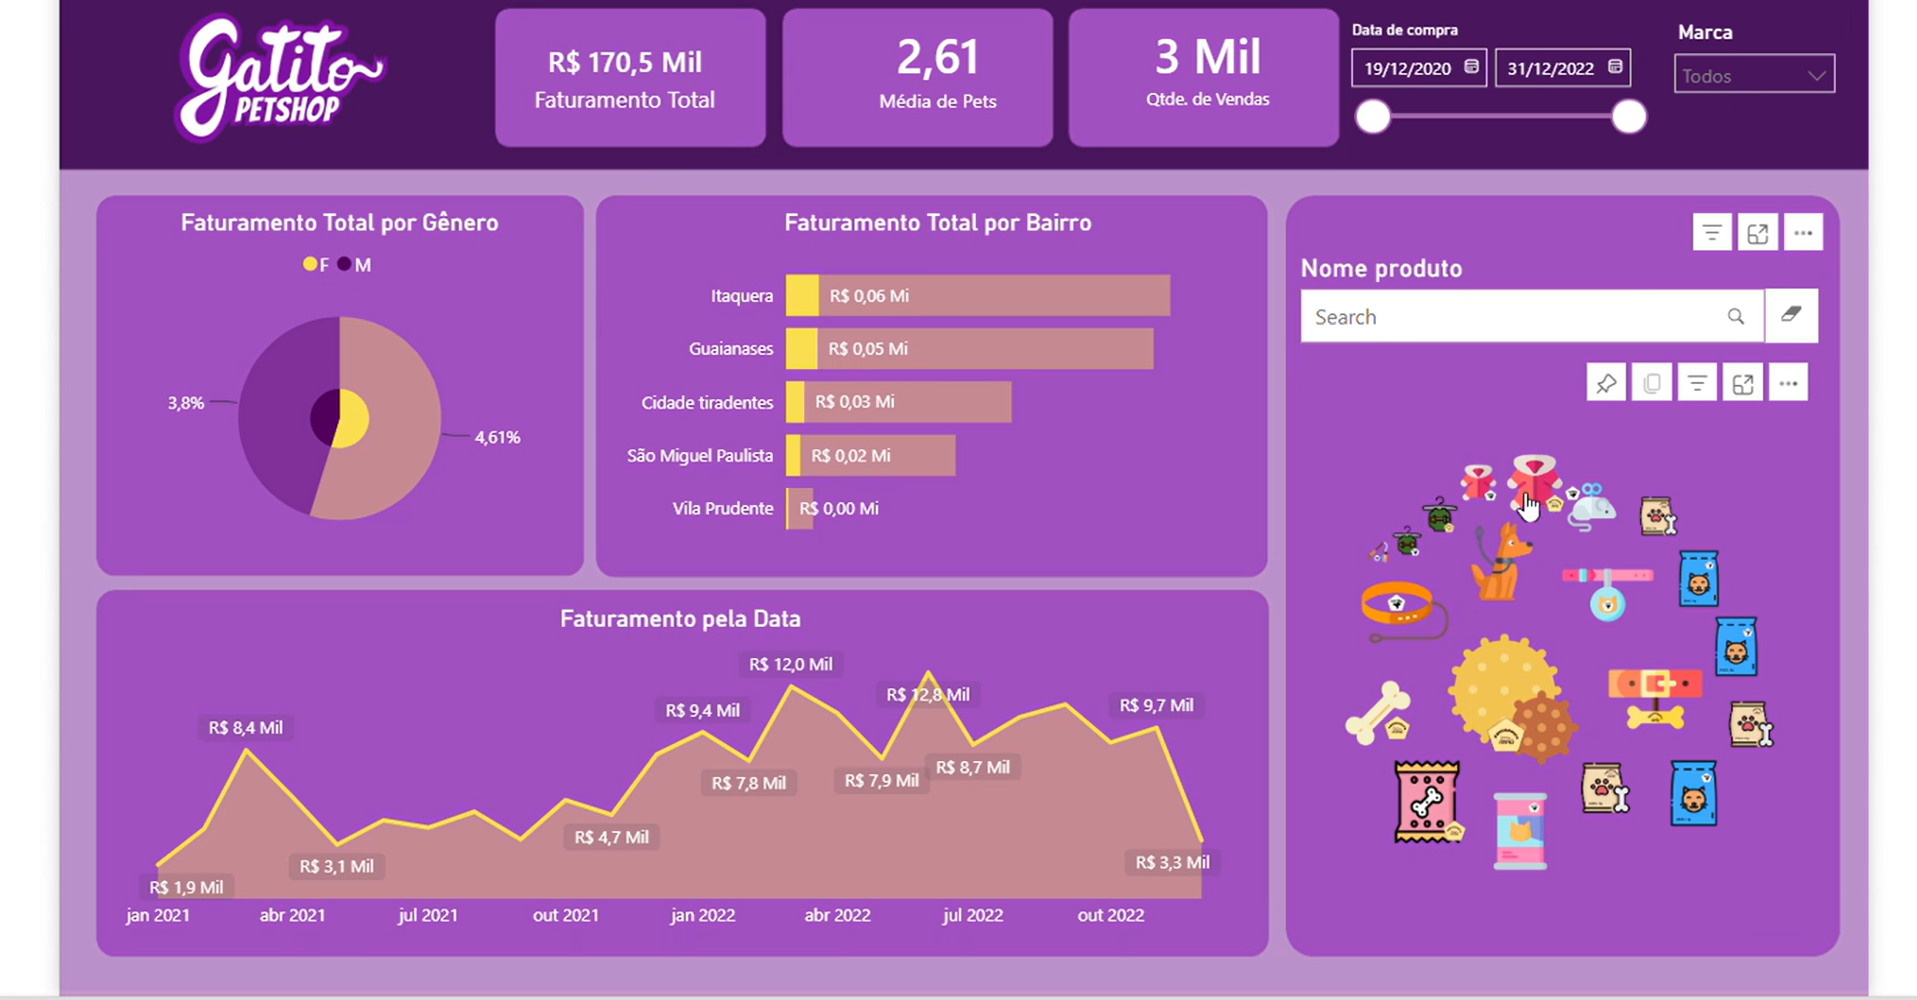

The dashboard page shown, as its layout file describes it:
{"tool":"powerbi","page":{"name":"Gatito PetShop","canvas":[1280,720],"ordinal":0},"visuals":[{"type":"cardVisual","fields":{"Data":["Avg(Clientes.Pets)"]},"box":[547.6,14.2,147.9,101],"z":0},{"type":"cardVisual","fields":{"Data":["Sum(Vendas.Quantidade)"]},"box":[723.9,12.8,177.8,101],"z":1000},{"type":"cardVisual","fields":{"Data":["Vendas.Faturamento Total"]},"box":[302.8,28.9,194.8,84.6],"z":2000},{"type":"ImageGrid_FC5183B9_926C_45E0_B5F7_0CE9EAF1DA9B","fields":{"ImageURL":["Produtos.Url img"]},"box":[884.3,300.4,353.5,371.6],"z":3000},{"type":"slicer","fields":{"Values":["Produtos.Marca"]},"box":[1132.3,25.8,133.9,100],"z":4000},{"type":"textFilter25A4896A83E0487089E2B90C9AE57C8A","fields":{"field":["Produtos.Nome produto"]},"box":[873.5,194.2,375.2,72.4],"z":5000},{"type":"pieChart","fields":{"Category":["Clientes.Gênero"],"Y":["Vendas.Faturamento Total"]},"box":[33.8,162.9,329.4,248.5],"z":6000},{"type":"clusteredBarChart","fields":{"Category":["Clientes.Bairro"],"Y":["Vendas.Faturamento Total"]},"box":[387.7,163,466.7,248.1],"z":7000},{"type":"slicer","fields":{"Values":["Vendas.Data de compra"]},"box":[901.6,25.8,230.6,93.5],"z":8000},{"type":"areaChart","title":"Faturamento pela Data","fields":{"Category":["Vendas.Data de compra.Variation.Hierarquia de datas.Ano","Vendas.Data de compra.Variation.Hierarquia de datas.Trimestre","Vendas.Data de compra.Variation.Hierarquia de datas.Mês","Vendas.Data de compra.Variation.Hierarquia de datas.Dia"],"Y":["Vendas.Faturamento Total"]},"box":[42,443.2,795.1,238.3],"z":9000}]}

Visuals, with their boxes on the page's 1280x720 design canvas (x1, y1, x2, y2). These are canvas units, not pixel positions in the 1917x1000 screenshot, which may show the page scaled, cropped or inside an application window:
cardVisual - Avg(Clientes.Pets): (548, 14, 696, 115)
cardVisual - Sum(Vendas.Quantidade): (724, 13, 902, 114)
cardVisual - Vendas.Faturamento Total: (303, 29, 498, 114)
ImageGrid_FC5183B9_926C_45E0_B5F7_0CE9EAF1DA9B - Produtos.Url img: (884, 300, 1238, 672)
slicer - Produtos.Marca: (1132, 26, 1266, 126)
textFilter25A4896A83E0487089E2B90C9AE57C8A - Produtos.Nome produto: (874, 194, 1249, 267)
pieChart - Clientes.Gênero x Vendas.Faturamento Total: (34, 163, 363, 411)
clusteredBarChart - Clientes.Bairro x Vendas.Faturamento Total: (388, 163, 854, 411)
slicer - Vendas.Data de compra: (902, 26, 1132, 119)
"Faturamento pela Data" areaChart: (42, 443, 837, 682)
